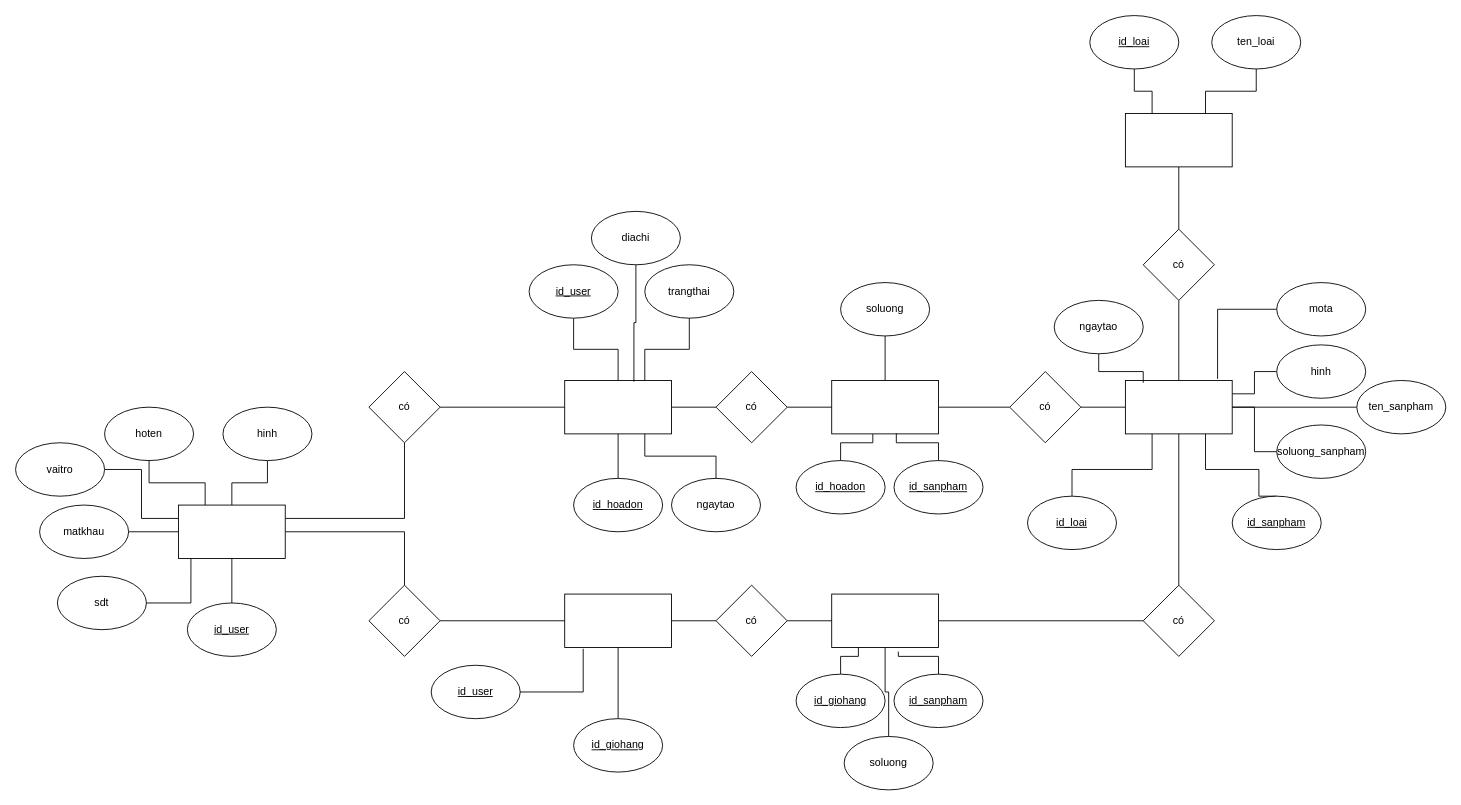
Some shapes in this 1461 by 805 pixel diagram are drawn without their labels. Each missing label, with the centre of its shape:
GIOHANG: (618,620)
GIOHANGCHITIET: (885,620)
HOADON: (618,407)
HOADONCHITIET: (885,407)
LOAI: (1178,140)
SANPHAM: (1178,407)
USER: (231,531)
